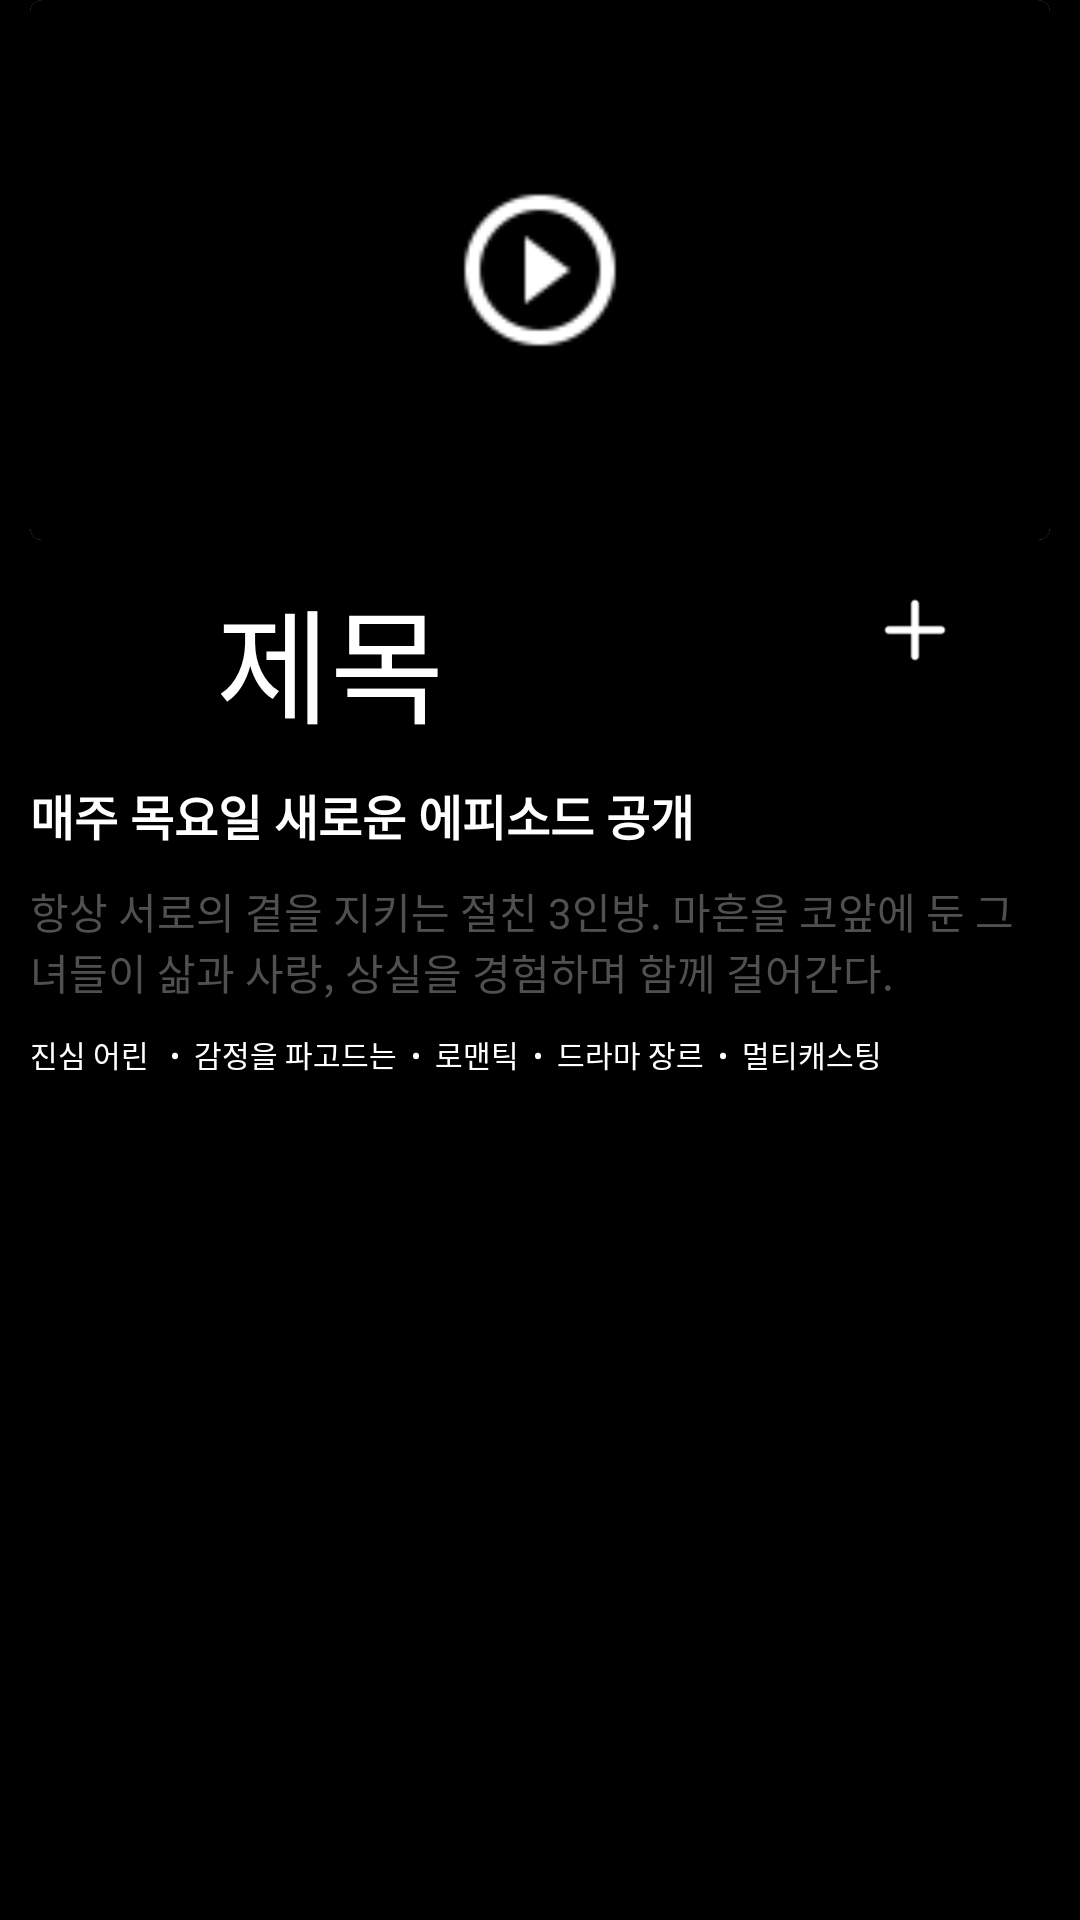

Screen size 1080px x 1920px. Icon name, then its box in pixels as detection(x1, y1, x2, y2):
add: detection(884, 599, 946, 661)
playing: detection(463, 193, 617, 347)
